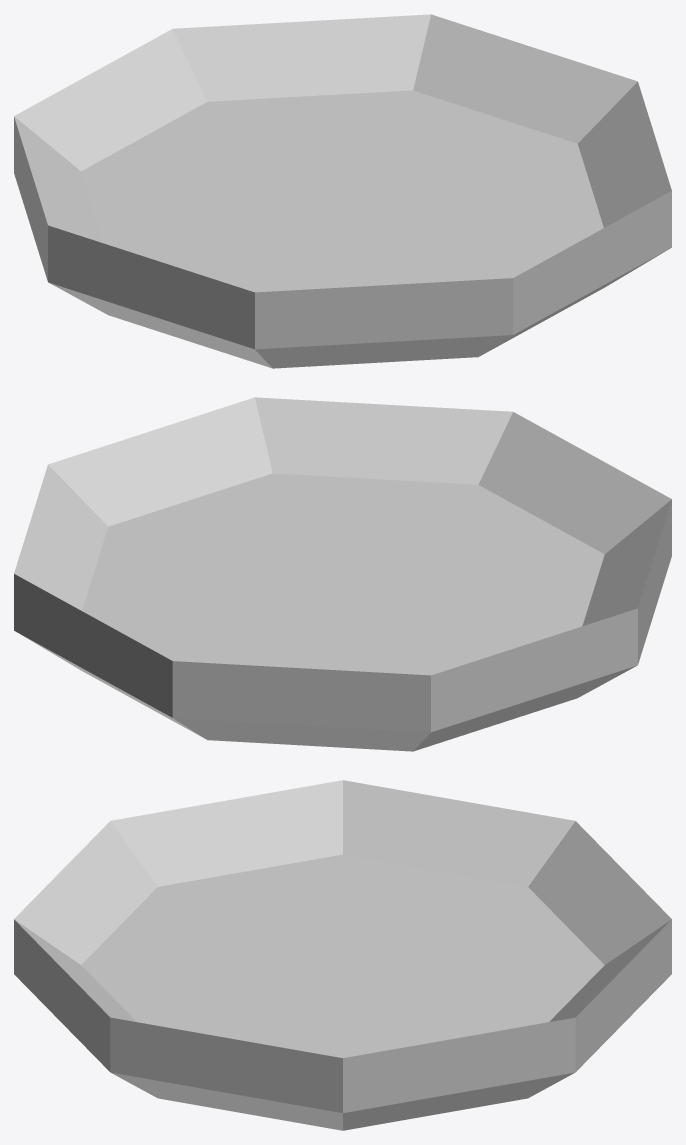
Rendered from plateWeapon.glb.
The picture shows the model from 3 angles, top to bottom: view 1: azimuth 30°, elevation 25°; view 2: azimuth 150°, elevation 25°; view 3: azimuth 270°, elevation 25°; orthographic projection. The views are drawn at different scales.
Visible parts, largest first — view 1: Cylinder; view 2: Cylinder; view 3: Cylinder.
Part boxes in pixels (<box>): Cylinder: <box>14,14,671,368</box>; Cylinder: <box>14,397,671,751</box>; Cylinder: <box>14,780,671,1130</box>.
Bounding box in the file's own units: 2.51 × 0.4257 × 2.51.
1 material, 1 textured.
